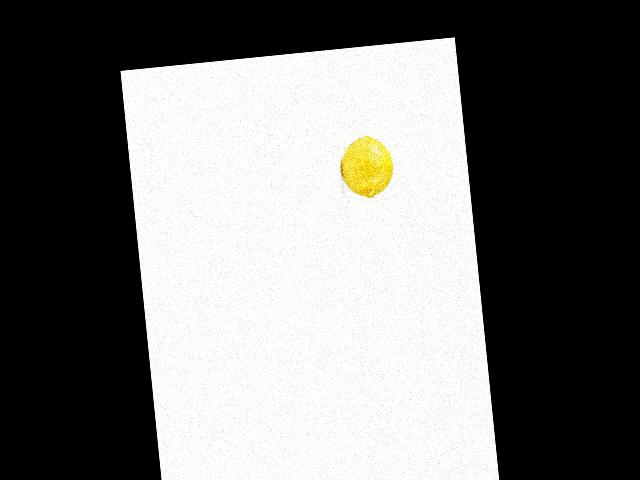lemon: (336, 127, 398, 209)
